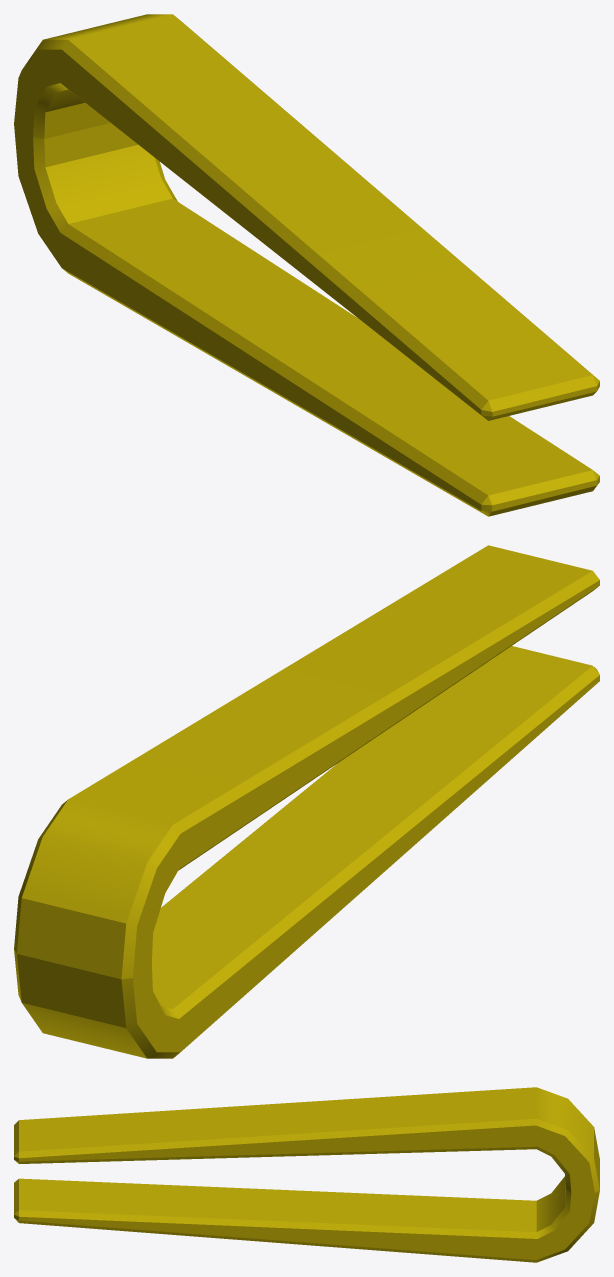
The model's file is vejnavi19_Chnapka.fbx.
3 views of the same model, one above another, from view 1: azimuth 30°, elevation 25°; view 2: azimuth 150°, elevation 25°; view 3: azimuth 270°, elevation 25° (orthographic). The views are drawn at different scales.
Visible parts, largest first — view 1: chnapka; view 2: chnapka; view 3: chnapka.
Boxes of the visible parts, x1=… form: chnapka: x1=14, y1=14, x2=599, y2=516; chnapka: x1=14, y1=545, x2=599, y2=1058; chnapka: x1=14, y1=1087, x2=599, y2=1262.
Bounding box in the file's own units: 0.2906 × 0.5468 × 2.01.
